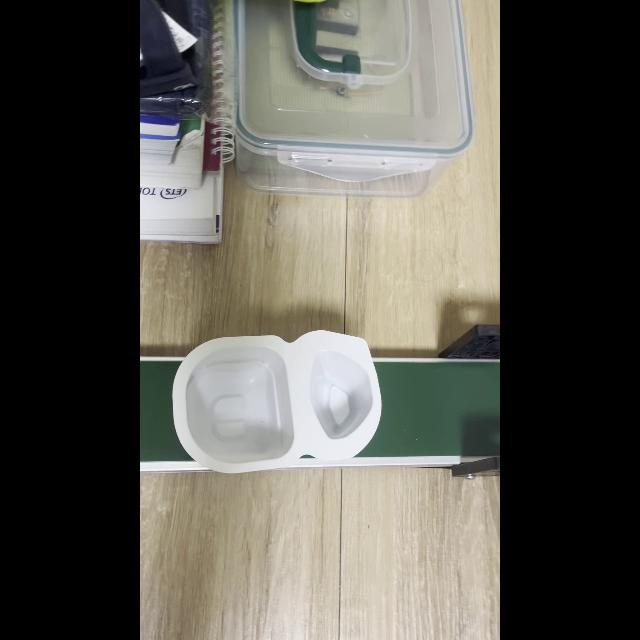clean: (181, 346, 373, 464)
